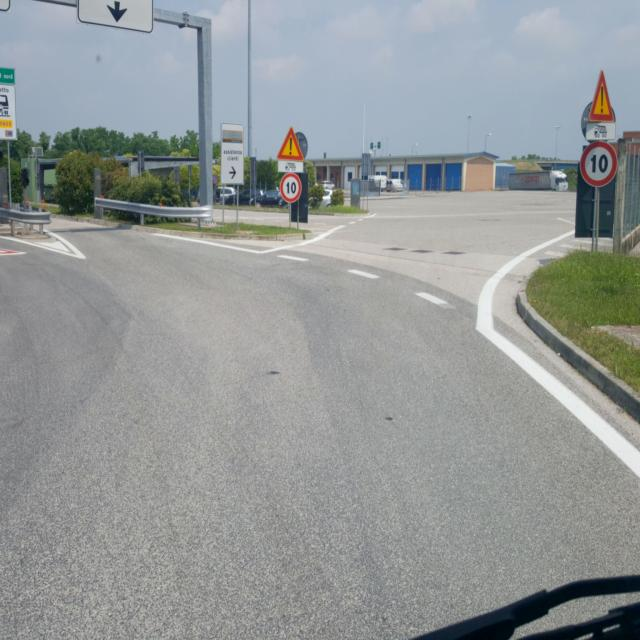car: (255, 189, 288, 207), (214, 187, 236, 203)
